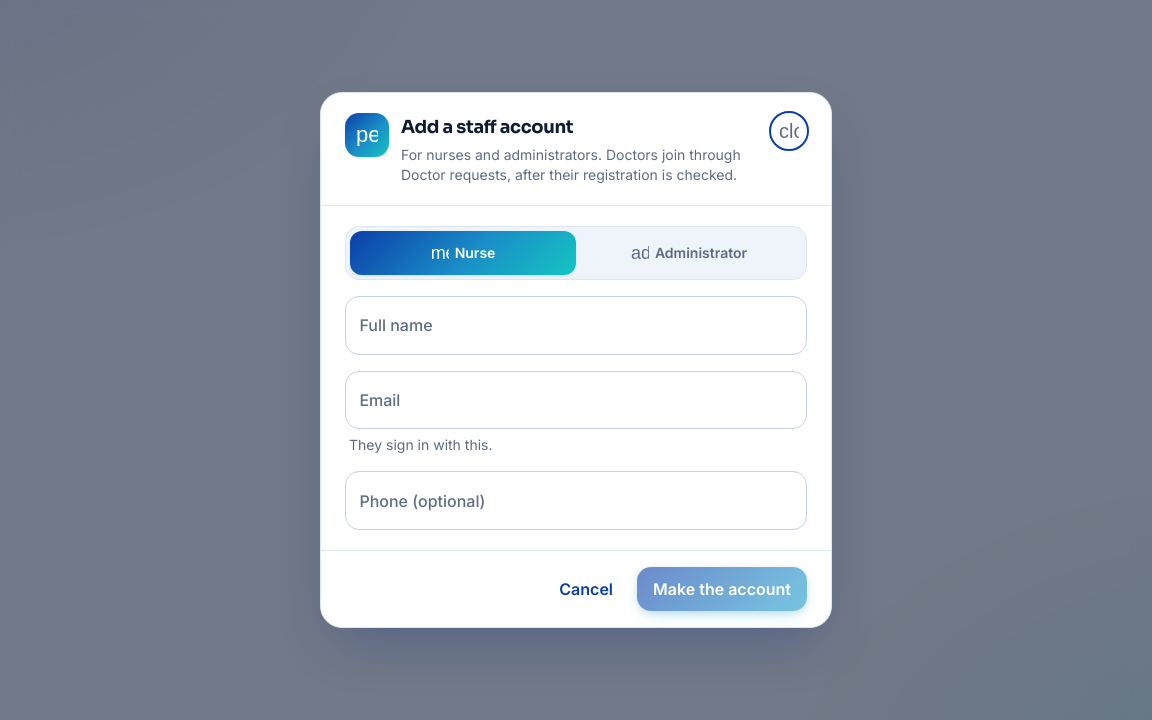
StaffAccountDialog › shows the generated password exactly as the server sent it
Type "Rubina Khan" into the field labelled "Full name".
click(576, 325); type("Rubina Khan")  # box [345, 296, 807, 355]
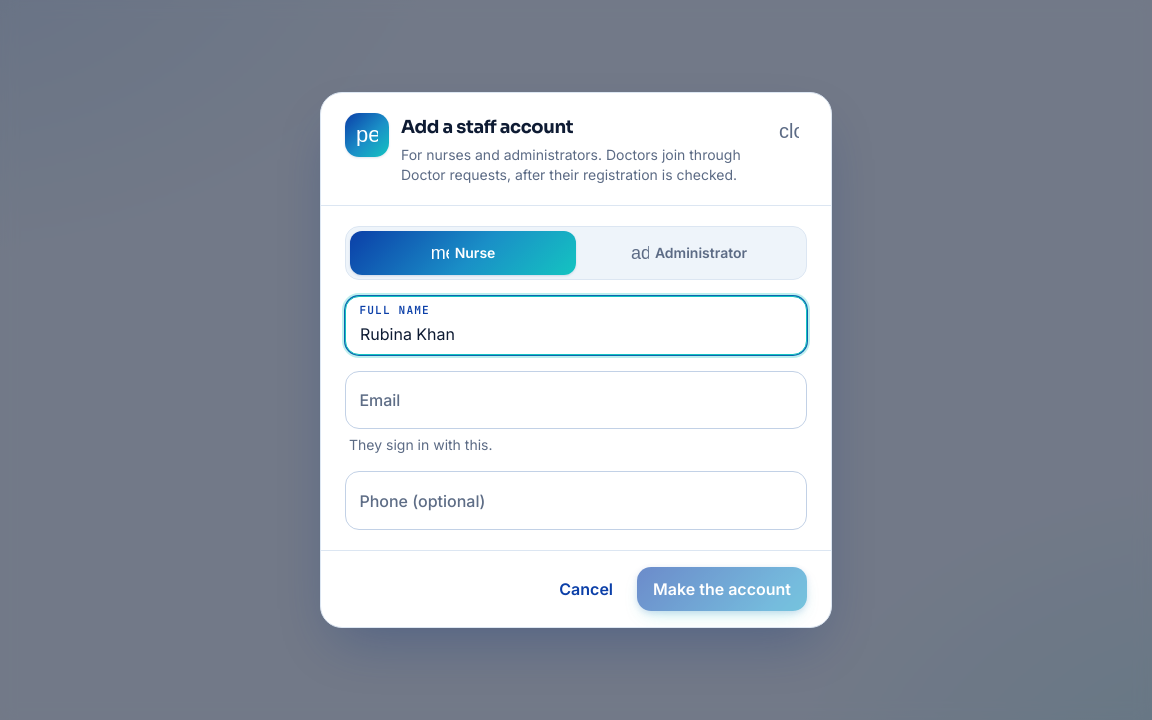
Type "rubina@example.com" into the field labelled "Email".
click(576, 400); type("rubina@example.com")  # box [345, 371, 807, 429]
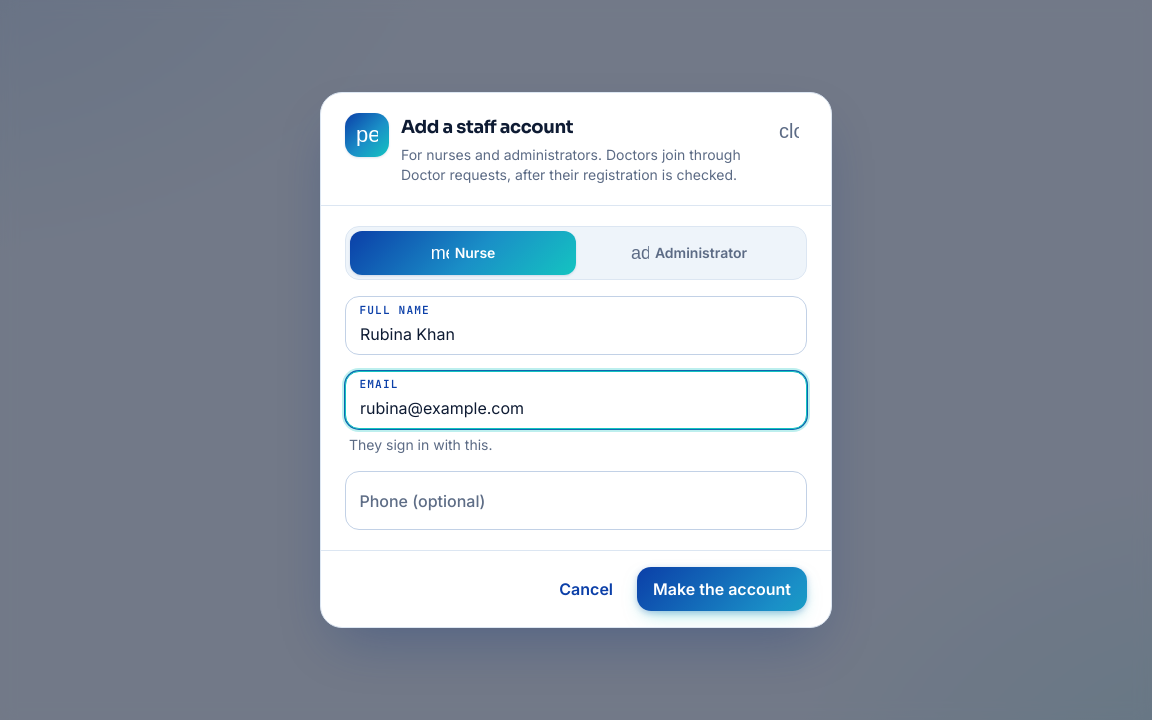
Click the button "Make the account".
click(722, 589)  # box [637, 567, 807, 611]
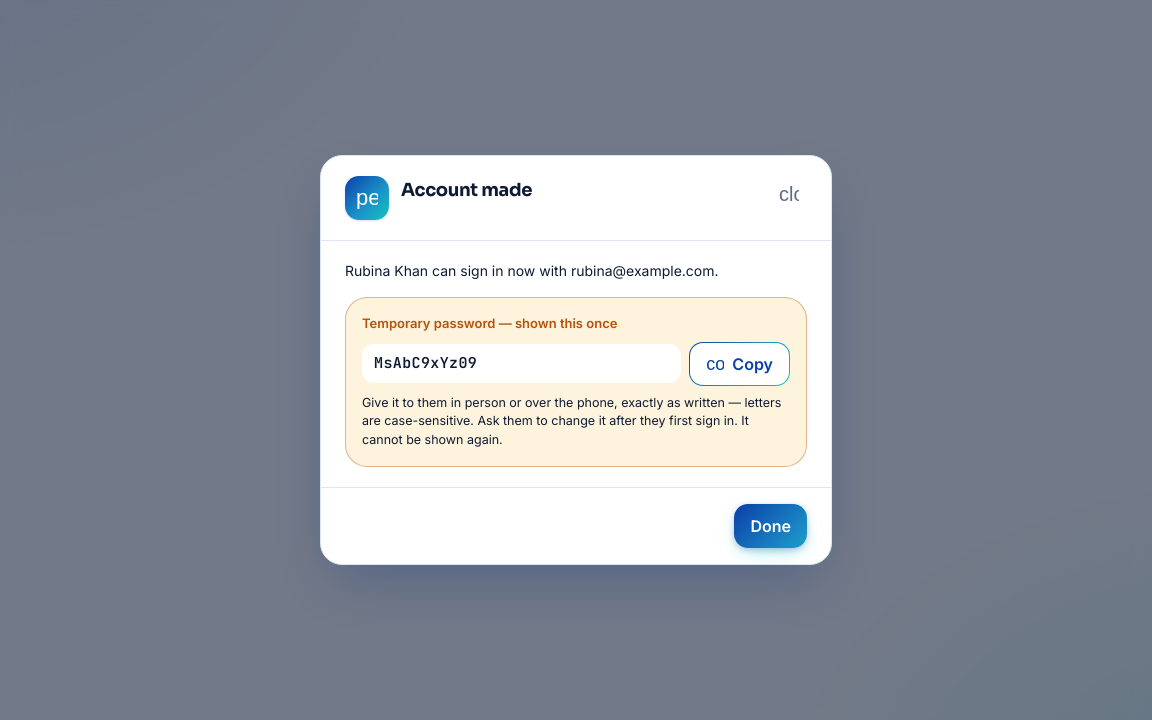
expect the text "MsAbC9xYz09" is shown: met, box [362, 344, 681, 383]
